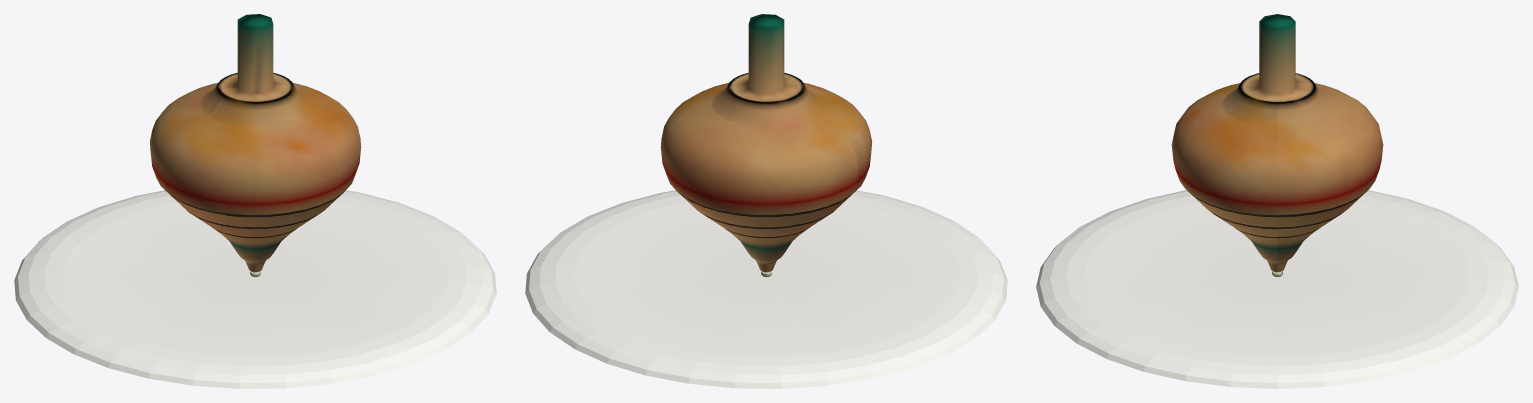
3 renders of one model, left to right at view 1: azimuth 30°, elevation 25°; view 2: azimuth 150°, elevation 25°; view 3: azimuth 270°, elevation 25°, orthographic.
Visible parts, largest first — view 1: ground, Object_11; view 2: ground, Object_11; view 3: ground, Object_11.
Boxes of the visible parts, <box> form: ground: <box>14,190,496,388</box>; Object_11: <box>149,14,361,277</box>; ground: <box>525,190,1007,388</box>; Object_11: <box>660,14,872,277</box>; ground: <box>1036,190,1518,388</box>; Object_11: <box>1171,14,1383,276</box>.
Bounding box in the file's own units: 3.22 × 1.95 × 3.22.
2 materials, 1 textured.
